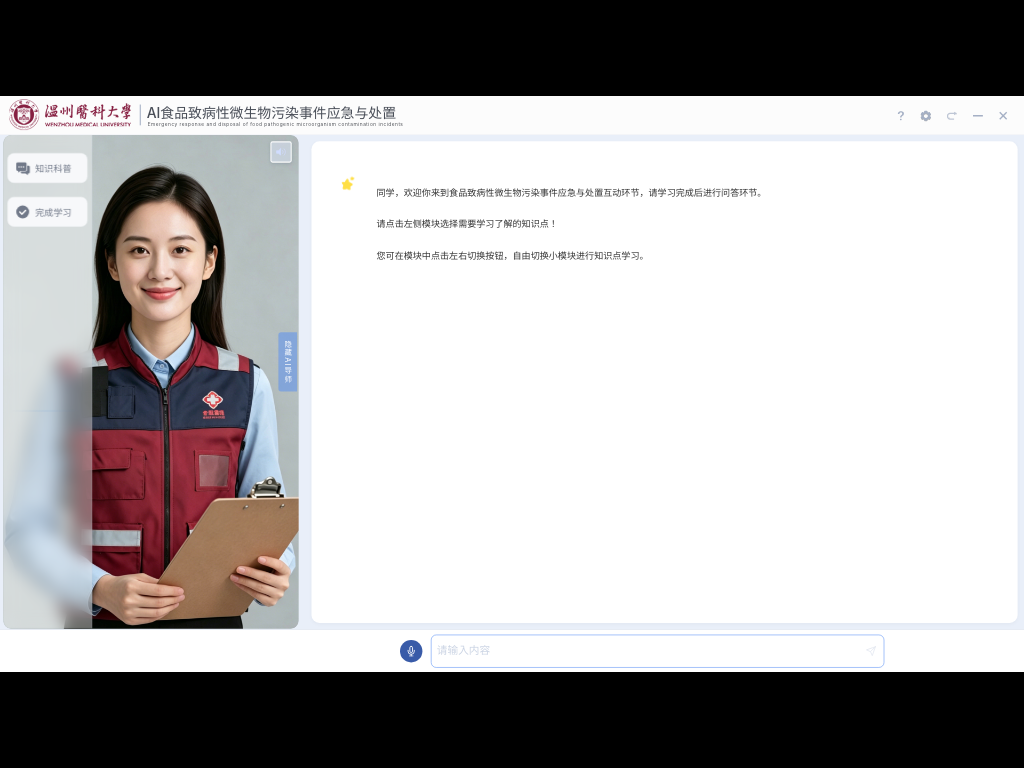
Test: KnowledgePage › 点击Tab切换模块内容
Click the button "知识科普" at (48, 168), box left=8, top=153, right=88, bottom=183
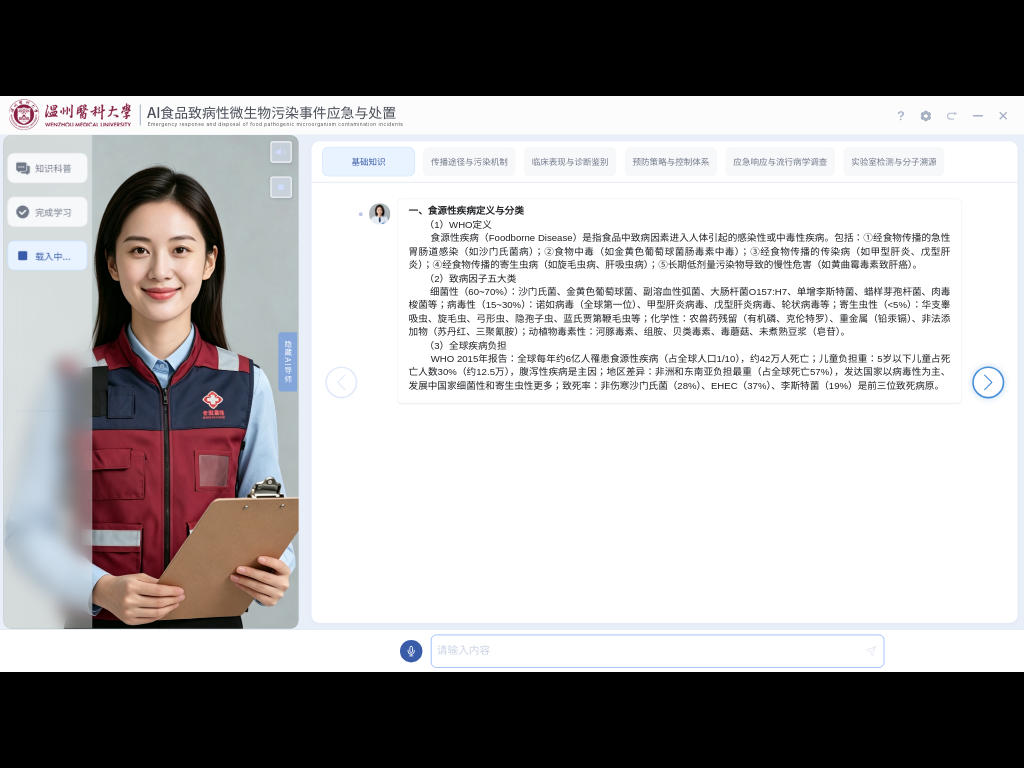
Click the button "传播途径与污染机制" at (469, 162), box left=423, top=147, right=516, bottom=177
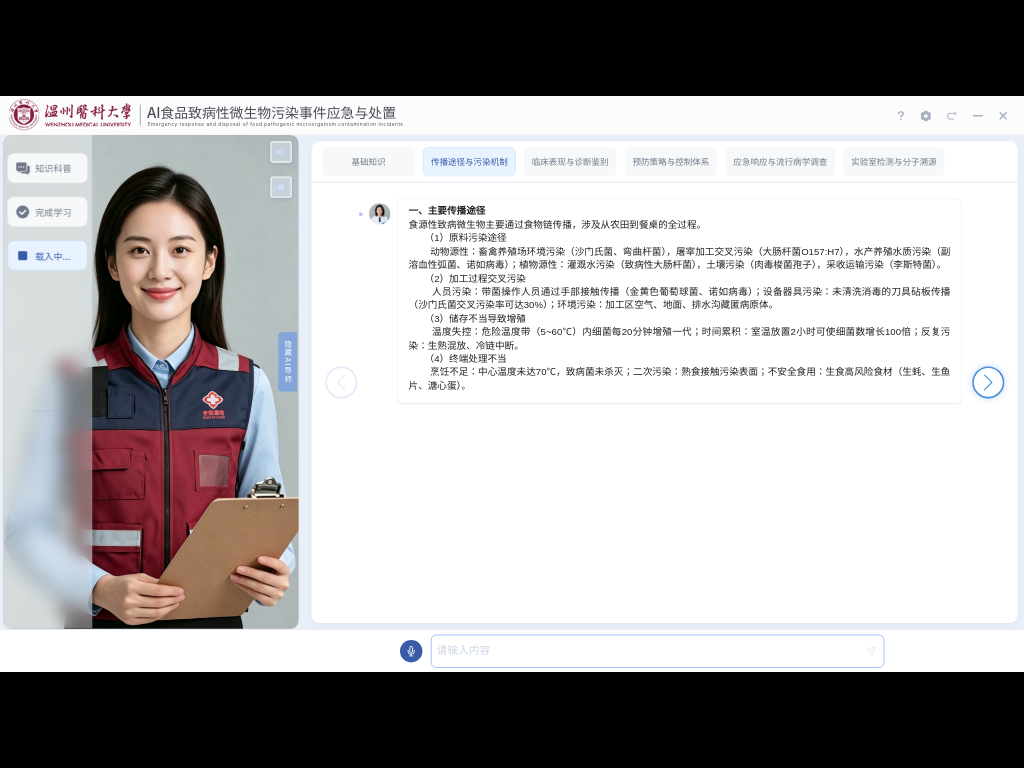
Now the text "一、主要传播途径" is shown, box left=408, top=206, right=485, bottom=217
